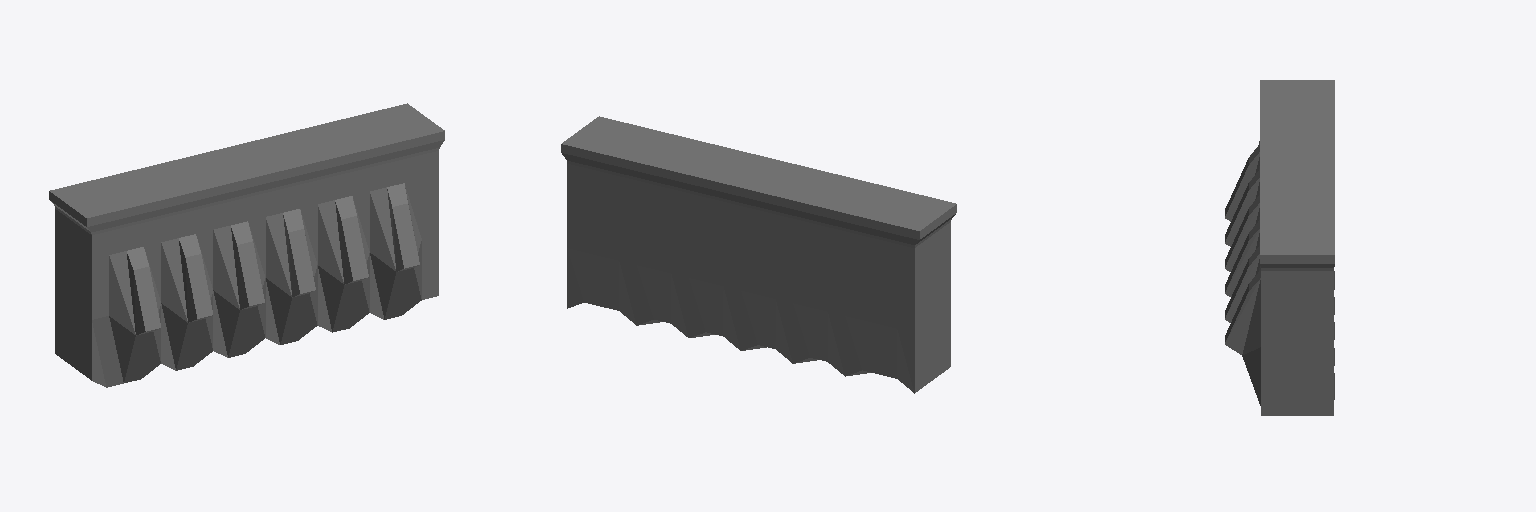
File: wall.obj
3 views of the same model, side by side, from view 1: azimuth 30°, elevation 25°; view 2: azimuth 150°, elevation 25°; view 3: azimuth 270°, elevation 25° (orthographic).
Size of the model in its own units: 11.31 by 5.34 by 3.02.